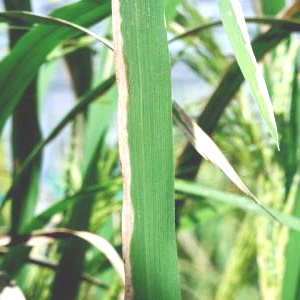Leaf_Blast: (117, 1, 175, 300), (244, 44, 282, 149)
